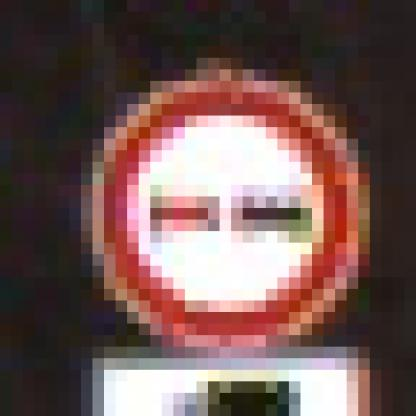No Overtaking: (59, 59, 359, 359)
